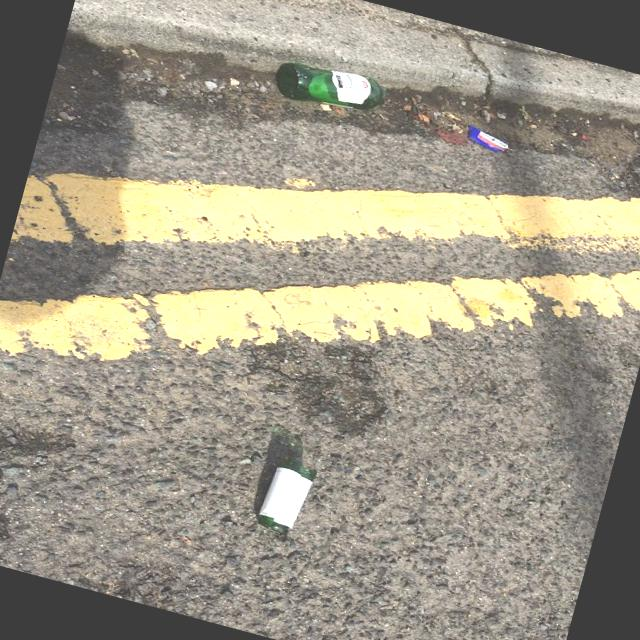Trash: (266, 51, 390, 121), (255, 427, 329, 542), (459, 122, 517, 155)
